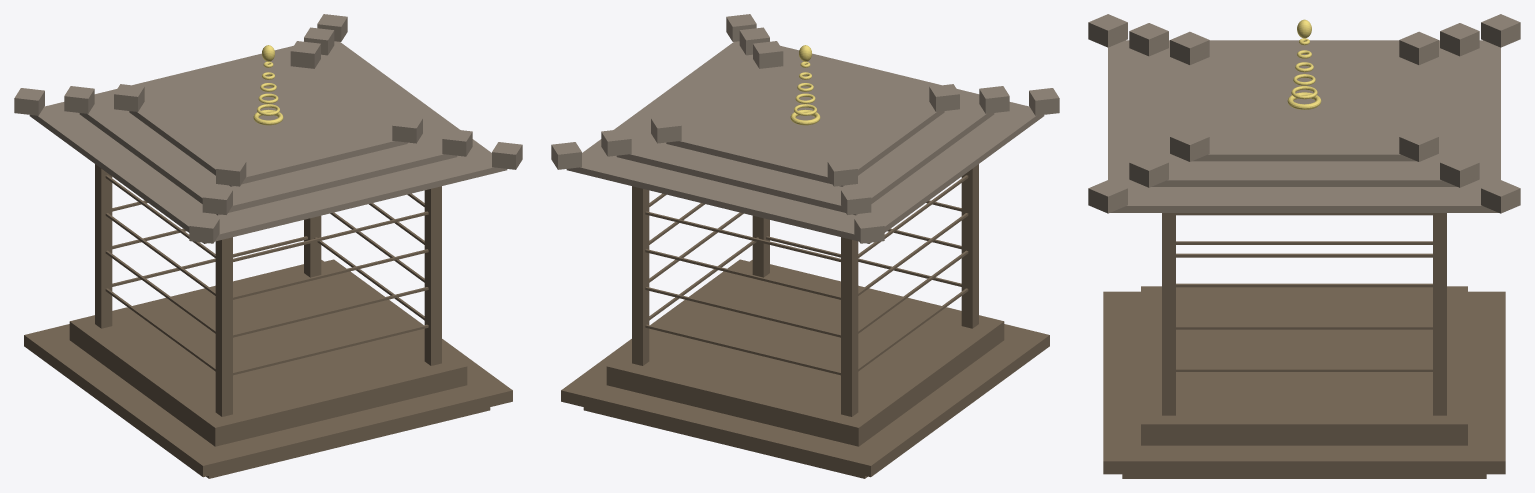
3 views of the same model, side by side, from view 1: azimuth 30°, elevation 25°; view 2: azimuth 150°, elevation 25°; view 3: azimuth 270°, elevation 25° (orthographic). The views are drawn at different scales.
Parts seen in each view (by area): view 1: Platform, Roof_Layer_3, Roof_Layer_1, Step_1, Roof_Layer_2, Post_-1_-1, Post_1_-1, Post_-1_1, Step_2, Post_1_1, Lattice_H_0_3, Lattice_H_0_2 (+18 smaller); view 2: Platform, Roof_Layer_3, Roof_Layer_1, Step_1, Roof_Layer_2, Post_-1_1, Post_1_1, Post_-1_-1, Step_2, Post_1_-1, Lattice_H_2_3, Lattice_H_2_2 (+18 smaller); view 3: Platform, Step_1, Roof_Layer_3, Roof_Layer_1, Roof_Layer_2, Post_1_-1, Post_1_1, Step_2, Lattice_H_1_2, Lattice_H_3_0, Corner_Upturn_L1_-1_-1, Corner_Upturn_L1_-1_1 (+14 smaller).
Part boxes in pixels (x1,y1,x2,y2): Platform: [69, 260, 467, 446]; Roof_Layer_3: [129, 66, 407, 186]; Roof_Layer_1: [29, 41, 507, 243]; Step_1: [24, 259, 512, 477]; Roof_Layer_2: [79, 54, 457, 215]; Post_-1_-1: [215, 237, 232, 416]; Post_1_-1: [424, 186, 441, 365]; Post_-1_1: [95, 164, 112, 328]; Step_2: [206, 407, 490, 478]; Post_1_1: [304, 215, 321, 277]; Lattice_H_0_3: [233, 211, 428, 261]; Lattice_H_0_2: [233, 249, 428, 299]; Platform: [606, 260, 1004, 446]; Roof_Layer_3: [666, 66, 944, 186]; Roof_Layer_1: [566, 41, 1044, 243]; Step_1: [561, 259, 1049, 477]; Roof_Layer_2: [616, 54, 994, 215]; Post_-1_1: [841, 237, 858, 416]; Post_1_1: [632, 186, 649, 365]; Post_-1_-1: [961, 164, 978, 328]; Step_2: [583, 407, 867, 478]; Post_1_-1: [752, 215, 769, 277]; Lattice_H_2_3: [645, 211, 840, 261]; Lattice_H_2_2: [645, 249, 840, 299]; Platform: [1141, 286, 1467, 445]; Step_1: [1103, 291, 1505, 474]; Roof_Layer_3: [1190, 57, 1418, 161]; Roof_Layer_1: [1108, 40, 1500, 212]; Roof_Layer_2: [1149, 49, 1459, 186]; Post_1_-1: [1162, 213, 1175, 415]; Post_1_1: [1433, 213, 1446, 415]; Step_2: [1122, 474, 1486, 478]; Lattice_H_1_2: [1176, 283, 1432, 287]; Lattice_H_3_0: [1176, 253, 1432, 257]; Corner_Upturn_L1_-1_-1: [1088, 14, 1127, 47]; Corner_Upturn_L1_-1_1: [1481, 14, 1520, 47].
Bounding box in the file's own units: 4.62 × 4.5 × 4.62.
